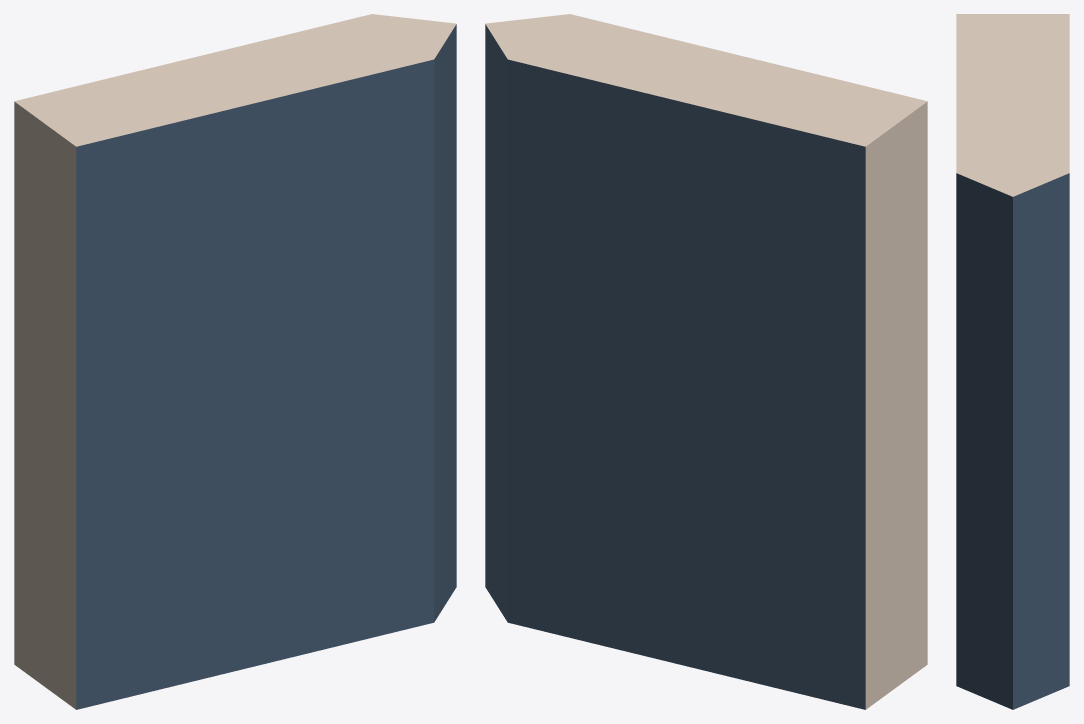
File: Book_3_008.fbx
3 renders of one model, left to right at view 1: azimuth 30°, elevation 25°; view 2: azimuth 150°, elevation 25°; view 3: azimuth 270°, elevation 25°, orthographic. The views are drawn at different scales.
Visible parts, largest first — view 1: Book 3.008; view 2: Book 3.008; view 3: Book 3.008.
Boxes of the visible parts, <box> form: Book 3.008: <box>14,14,456,709</box>; Book 3.008: <box>485,14,927,709</box>; Book 3.008: <box>956,14,1069,709</box>.
Size of the model in its own units: 49.62 by 64.88 by 12.98.
